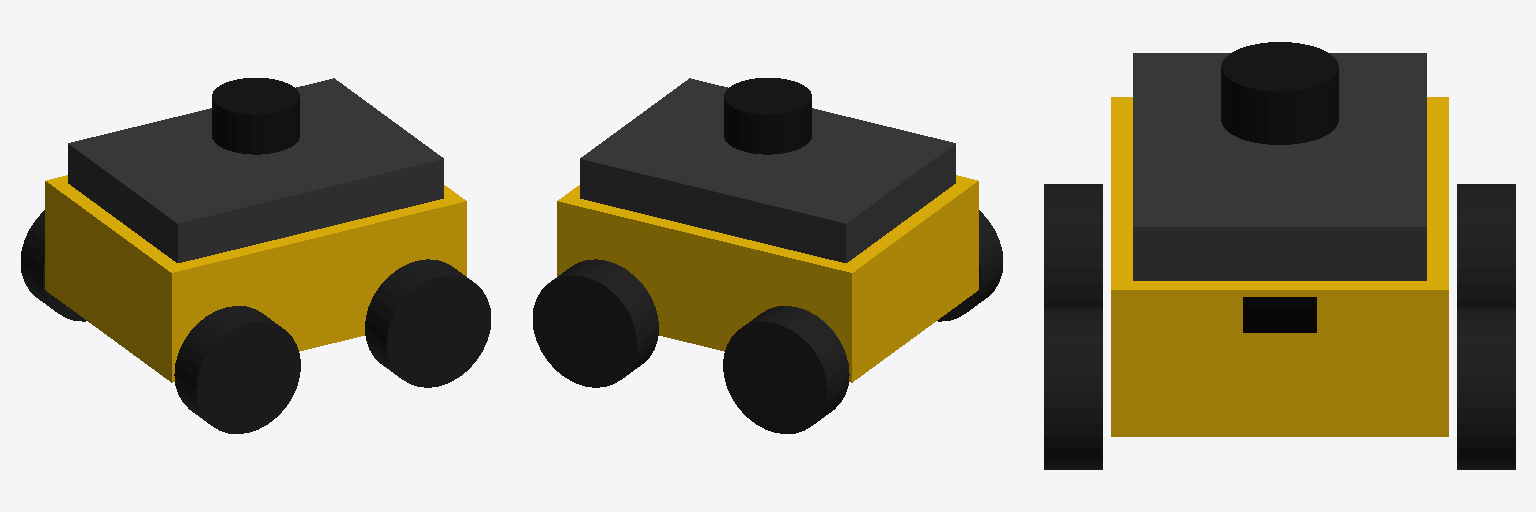
URDF robot description (myAGV):
<?xml version="1.0"?>
<robot name="myAGV">

  <!-- ========================================================= -->
  <!-- mesh 파일을 전혀 쓰지 않는 순수 geometry(box/cylinder) URDF -->
  <!-- dae에서 측정한 실제 치수를 그대로 반영함                    -->
  <!-- 본체: 0.31 x 0.23 x 0.11 m  (myagv_base.dae 측정값)         -->
  <!-- ========================================================= -->

  <link name="base_footprint"/>

  <joint name="base_footprint_joint" type="fixed">
    <origin xyz="0.0 0.0 0.06" rpy="0 0 0"/>
    <parent link="base_footprint"/>
    <child link="base_link"/>
  </joint>

  <!-- ===== base_link: 본체 하단 (노란색 박스) ===== -->
  <link name="base_link">
    <visual>
      <geometry>
        <box size="0.31 0.23 0.11"/>
      </geometry>
      <origin xyz="0.0 0.0 0.0" rpy="0.0 0.0 0.0"/>
      <material name="yellow">
        <color rgba="0.95 0.75 0.05 1.0"/>
      </material>
    </visual>
    <collision>
      <geometry>
        <box size="0.31 0.23 0.11"/>
      </geometry>
      <origin xyz="0.0 0.0 0.0" rpy="0.0 0.0 0.0"/>
    </collision>
    <inertial>
      <mass value="5.0"/>
      <origin xyz="0.0 0.0 0.0" rpy="0 0 0"/>
      <inertia ixx="0.0408" ixy="0.0" ixz="0.0"
               iyy="0.0642" iyz="0.0"
               izz="0.0897"/>
    </inertial>
  </link>

  <!-- ===== upper_link: 상판 (검은색 박스, base보다 살짝 작게) ===== -->
  <joint name="upper_joint" type="fixed">
    <origin xyz="0.0 0.0 0.075" rpy="0 0 0"/>
    <parent link="base_link"/>
    <child link="upper_link"/>
  </joint>

  <link name="upper_link">
    <visual>
      <geometry>
        <box size="0.28 0.20 0.04"/>
      </geometry>
      <origin xyz="0.0 0.0 0.0" rpy="0.0 0.0 0.0"/>
      <material name="dark_grey">
        <color rgba="0.25 0.25 0.25 1.0"/>
      </material>
    </visual>
    <collision>
      <geometry>
        <box size="0.28 0.20 0.04"/>
      </geometry>
    </collision>
    <inertial>
      <mass value="0.5"/>
      <inertia ixx="0.0001" ixy="0" ixz="0" iyy="0.0001" iyz="0" izz="0.0001"/>
    </inertial>
  </link>

  <!-- ===== 바퀴 4개 ===== -->
  <joint name="front_left_wheel_joint" type="continuous">
    <origin xyz="0.10 0.14 -0.045" rpy="-1.5708 0 0"/>
    <parent link="base_link"/>
    <child link="front_left_wheel"/>
    <axis xyz="0 0 1"/>
    <dynamics damping="0.1" friction="0.1"/>
  </joint>
  <link name="front_left_wheel">
    <visual>
      <geometry><cylinder radius="0.055" length="0.04"/></geometry>
      <material name="wheel_grey"><color rgba="0.15 0.15 0.15 1.0"/></material>
    </visual>
    <collision>
      <geometry><cylinder radius="0.055" length="0.04"/></geometry>
    </collision>
    <inertial>
      <mass value="0.3"/>
      <inertia ixx="0.0002" ixy="0" ixz="0" iyy="0.0002" iyz="0" izz="0.0004"/>
    </inertial>
  </link>

  <joint name="front_right_wheel_joint" type="continuous">
    <origin xyz="0.10 -0.14 -0.045" rpy="-1.5708 0 0"/>
    <parent link="base_link"/>
    <child link="front_right_wheel"/>
    <axis xyz="0 0 1"/>
    <dynamics damping="0.1" friction="0.1"/>
  </joint>
  <link name="front_right_wheel">
    <visual>
      <geometry><cylinder radius="0.055" length="0.04"/></geometry>
      <material name="wheel_grey"><color rgba="0.15 0.15 0.15 1.0"/></material>
    </visual>
    <collision>
      <geometry><cylinder radius="0.055" length="0.04"/></geometry>
    </collision>
    <inertial>
      <mass value="0.3"/>
      <inertia ixx="0.0002" ixy="0" ixz="0" iyy="0.0002" iyz="0" izz="0.0004"/>
    </inertial>
  </link>

  <joint name="rear_left_wheel_joint" type="continuous">
    <origin xyz="-0.10 0.14 -0.045" rpy="-1.5708 0 0"/>
    <parent link="base_link"/>
    <child link="rear_left_wheel"/>
    <axis xyz="0 0 1"/>
    <dynamics damping="0.1" friction="0.1"/>
  </joint>
  <link name="rear_left_wheel">
    <visual>
      <geometry><cylinder radius="0.055" length="0.04"/></geometry>
      <material name="wheel_grey"><color rgba="0.15 0.15 0.15 1.0"/></material>
    </visual>
    <collision>
      <geometry><cylinder radius="0.055" length="0.04"/></geometry>
    </collision>
    <inertial>
      <mass value="0.3"/>
      <inertia ixx="0.0002" ixy="0" ixz="0" iyy="0.0002" iyz="0" izz="0.0004"/>
    </inertial>
  </link>

  <joint name="rear_right_wheel_joint" type="continuous">
    <origin xyz="-0.10 -0.14 -0.045" rpy="-1.5708 0 0"/>
    <parent link="base_link"/>
    <child link="rear_right_wheel"/>
    <axis xyz="0 0 1"/>
    <dynamics damping="0.1" friction="0.1"/>
  </joint>
  <link name="rear_right_wheel">
    <visual>
      <geometry><cylinder radius="0.055" length="0.04"/></geometry>
      <material name="wheel_grey"><color rgba="0.15 0.15 0.15 1.0"/></material>
    </visual>
    <collision>
      <geometry><cylinder radius="0.055" length="0.04"/></geometry>
    </collision>
    <inertial>
      <mass value="0.3"/>
      <inertia ixx="0.0002" ixy="0" ixz="0" iyy="0.0002" iyz="0" izz="0.0004"/>
    </inertial>
  </link>

  <!-- ===== LiDAR ===== -->
  <joint name="lidar_joint" type="fixed">
    <origin xyz="0.0 0.0 0.13" rpy="0 0 0"/>
    <parent link="base_link"/>
    <child link="laser_frame"/>
  </joint>
  <link name="laser_frame">
    <visual>
      <geometry><cylinder radius="0.04" length="0.04"/></geometry>
      <material name="black"><color rgba="0.1 0.1 0.1 1.0"/></material>
    </visual>
    <collision>
      <geometry><cylinder radius="0.04" length="0.04"/></geometry>
    </collision>
    <inertial>
      <mass value="0.1"/>
      <inertia ixx="0.0001" ixy="0" ixz="0" iyy="0.0001" iyz="0" izz="0.0001"/>
    </inertial>
  </link>

  <!-- ===== Front Camera (ArUco 인식용) ===== -->
  <joint name="camera_joint" type="fixed">
    <origin xyz="0.16 0.0 0.04" rpy="0 0 0"/>
    <parent link="base_link"/>
    <child link="camera_link"/>
  </joint>
  <link name="camera_link">
    <visual>
      <geometry><box size="0.02 0.05 0.02"/></geometry>
      <material name="cam_black"><color rgba="0.05 0.05 0.05 1.0"/></material>
    </visual>
    <collision>
      <geometry><box size="0.02 0.05 0.02"/></geometry>
    </collision>
    <inertial>
      <mass value="0.05"/>
      <inertia ixx="0.00001" ixy="0" ixz="0" iyy="0.00001" iyz="0" izz="0.00001"/>
    </inertial>
  </link>

  <!-- ROS 카메라 표준 광학 좌표축 (z앞, x우, y아래) -->
  <joint name="camera_optical_joint" type="fixed">
    <origin xyz="0 0 0" rpy="-1.5708 0 -1.5708"/>
    <parent link="camera_link"/>
    <child link="camera_link_optical"/>
  </joint>
  <link name="camera_link_optical"/>

  <!-- ===== Gazebo: diff_drive plugin ===== -->
  <gazebo>
    <plugin name="gazebo_ros_diff_drive" filename="libgazebo_ros_diff_drive.so">
      <ros>
        <remapping>cmd_vel:=cmd_vel</remapping>
        <remapping>odom:=odom</remapping>
      </ros>
      <left_joint>front_left_wheel_joint</left_joint>
      <right_joint>front_right_wheel_joint</right_joint>
      <wheel_separation>0.28</wheel_separation>
      <wheel_diameter>0.11</wheel_diameter>
      <max_wheel_torque>50</max_wheel_torque>
      <max_wheel_acceleration>10.0</max_wheel_acceleration>
      <publish_odom>true</publish_odom>
      <publish_odom_tf>true</publish_odom_tf>
      <publish_wheel_tf>false</publish_wheel_tf>
      <odometry_frame>odom</odometry_frame>
      <robot_base_frame>base_footprint</robot_base_frame>
      <update_rate>50</update_rate>
    </plugin>
  </gazebo>

  <!-- 앞바퀴: 일반 마찰 -->
  <gazebo reference="front_left_wheel">
    <material>Gazebo/DarkGrey</material>
    <mu1>1.5</mu1><mu2>1.5</mu2>
    <kp>100000.0</kp><kd>10.0</kd>
    <minDepth>0.001</minDepth><maxVel>100</maxVel>
  </gazebo>
  <gazebo reference="front_right_wheel">
    <material>Gazebo/DarkGrey</material>
    <mu1>1.5</mu1><mu2>1.5</mu2>
    <kp>100000.0</kp><kd>10.0</kd>
    <minDepth>0.001</minDepth><maxVel>100</maxVel>
  </gazebo>

  <!-- 뒷바퀴: 낮은 마찰 (회전 시 끌림 방지) -->
  <gazebo reference="rear_left_wheel">
    <material>Gazebo/DarkGrey</material>
    <mu1>0.05</mu1><mu2>0.05</mu2>
    <kp>100000.0</kp><kd>10.0</kd>
    <minDepth>0.001</minDepth><maxVel>100</maxVel>
  </gazebo>
  <gazebo reference="rear_right_wheel">
    <material>Gazebo/DarkGrey</material>
    <mu1>0.05</mu1><mu2>0.05</mu2>
    <kp>100000.0</kp><kd>10.0</kd>
    <minDepth>0.001</minDepth><maxVel>100</maxVel>
  </gazebo>

  <!-- ===== Gazebo: LiDAR 센서 ===== -->
  <gazebo reference="laser_frame">
    <material>Gazebo/Black</material>
    <sensor type="ray" name="lidar_sensor">
      <pose>0 0 0 0 0 0</pose>
      <visualize>false</visualize>
      <update_rate>10</update_rate>
      <ray>
        <scan>
          <horizontal>
            <samples>360</samples>
            <resolution>1</resolution>
            <min_angle>-3.14159</min_angle>
            <max_angle>3.14159</max_angle>
          </horizontal>
        </scan>
        <range>
          <min>0.12</min>
          <max>12.0</max>
          <resolution>0.01</resolution>
        </range>
        <noise>
          <type>gaussian</type>
          <mean>0.0</mean>
          <stddev>0.01</stddev>
        </noise>
      </ray>
      <plugin name="gazebo_ros_lidar" filename="libgazebo_ros_ray_sensor.so">
        <ros>
          <remapping>~/out:=scan</remapping>
        </ros>
        <output_type>sensor_msgs/LaserScan</output_type>
        <frame_name>laser_frame</frame_name>
      </plugin>
    </sensor>
  </gazebo>

  <!-- ===== Gazebo: Front Camera (ArUco 인식용) ===== -->
  <gazebo reference="camera_link">
    <material>Gazebo/FlatBlack</material>
    <sensor type="camera" name="front_camera">
      <pose>0 0 0 0 0 0</pose>
      <visualize>true</visualize>
      <update_rate>15</update_rate>
      <camera name="front_camera">
        <horizontal_fov>1.3962634</horizontal_fov>
        <image>
          <width>800</width>
          <height>600</height>
          <format>R8G8B8</format>
        </image>
        <clip>
          <near>0.05</near>
          <far>15.0</far>
        </clip>
        <noise>
          <type>gaussian</type>
          <mean>0.0</mean>
          <stddev>0.005</stddev>
        </noise>
      </camera>
      <plugin name="gazebo_ros_camera" filename="libgazebo_ros_camera.so">
        <ros>
          <namespace>front_camera</namespace>
          <remapping>image_raw:=image_raw</remapping>
          <remapping>camera_info:=camera_info</remapping>
        </ros>
        <camera_name>front_camera</camera_name>
        <frame_name>camera_link_optical</frame_name>
      </plugin>
    </sensor>
  </gazebo>

</robot>

--- Facts derived from the render (not from the file) ---
The picture shows the robot from 3 angles, left to right: view 1: azimuth 30°, elevation 25°; view 2: azimuth 150°, elevation 25°; view 3: azimuth 270°, elevation 25°; orthographic projection.
Model myAGV with 10 links and 9 joints (4 continuous, 5 fixed), rooted at base_footprint, posed all joints at 0.
Links seen in each view (by area): view 1: base_link, upper_link, front_right_wheel, rear_right_wheel, laser_frame, rear_left_wheel; view 2: base_link, upper_link, front_left_wheel, rear_left_wheel, laser_frame, rear_right_wheel; view 3: base_link, upper_link, laser_frame, front_left_wheel, front_right_wheel, rear_left_wheel, rear_right_wheel, camera_link.
Link boxes in pixels (box(x1,y1,x2,y2)): base_link: box(45, 175, 466, 382); upper_link: box(68, 78, 443, 262); front_right_wheel: box(365, 259, 490, 387); rear_right_wheel: box(174, 306, 300, 433); laser_frame: box(212, 78, 299, 154); rear_left_wheel: box(21, 210, 86, 321); base_link: box(557, 175, 978, 382); upper_link: box(580, 78, 955, 262); front_left_wheel: box(533, 259, 658, 387); rear_left_wheel: box(723, 306, 849, 433); laser_frame: box(724, 78, 811, 154); rear_right_wheel: box(937, 210, 1002, 321); base_link: box(1111, 97, 1448, 436); upper_link: box(1133, 53, 1426, 280); laser_frame: box(1221, 42, 1338, 144); front_left_wheel: box(1457, 308, 1515, 469); front_right_wheel: box(1044, 308, 1102, 469); rear_left_wheel: box(1457, 184, 1515, 307); rear_right_wheel: box(1044, 184, 1102, 307); camera_link: box(1243, 297, 1316, 332).
Size in the robot's own frame: 0.325 by 0.32 by 0.25 metres.
Geometry: primitives only (box / cylinder / sphere), no mesh files.
